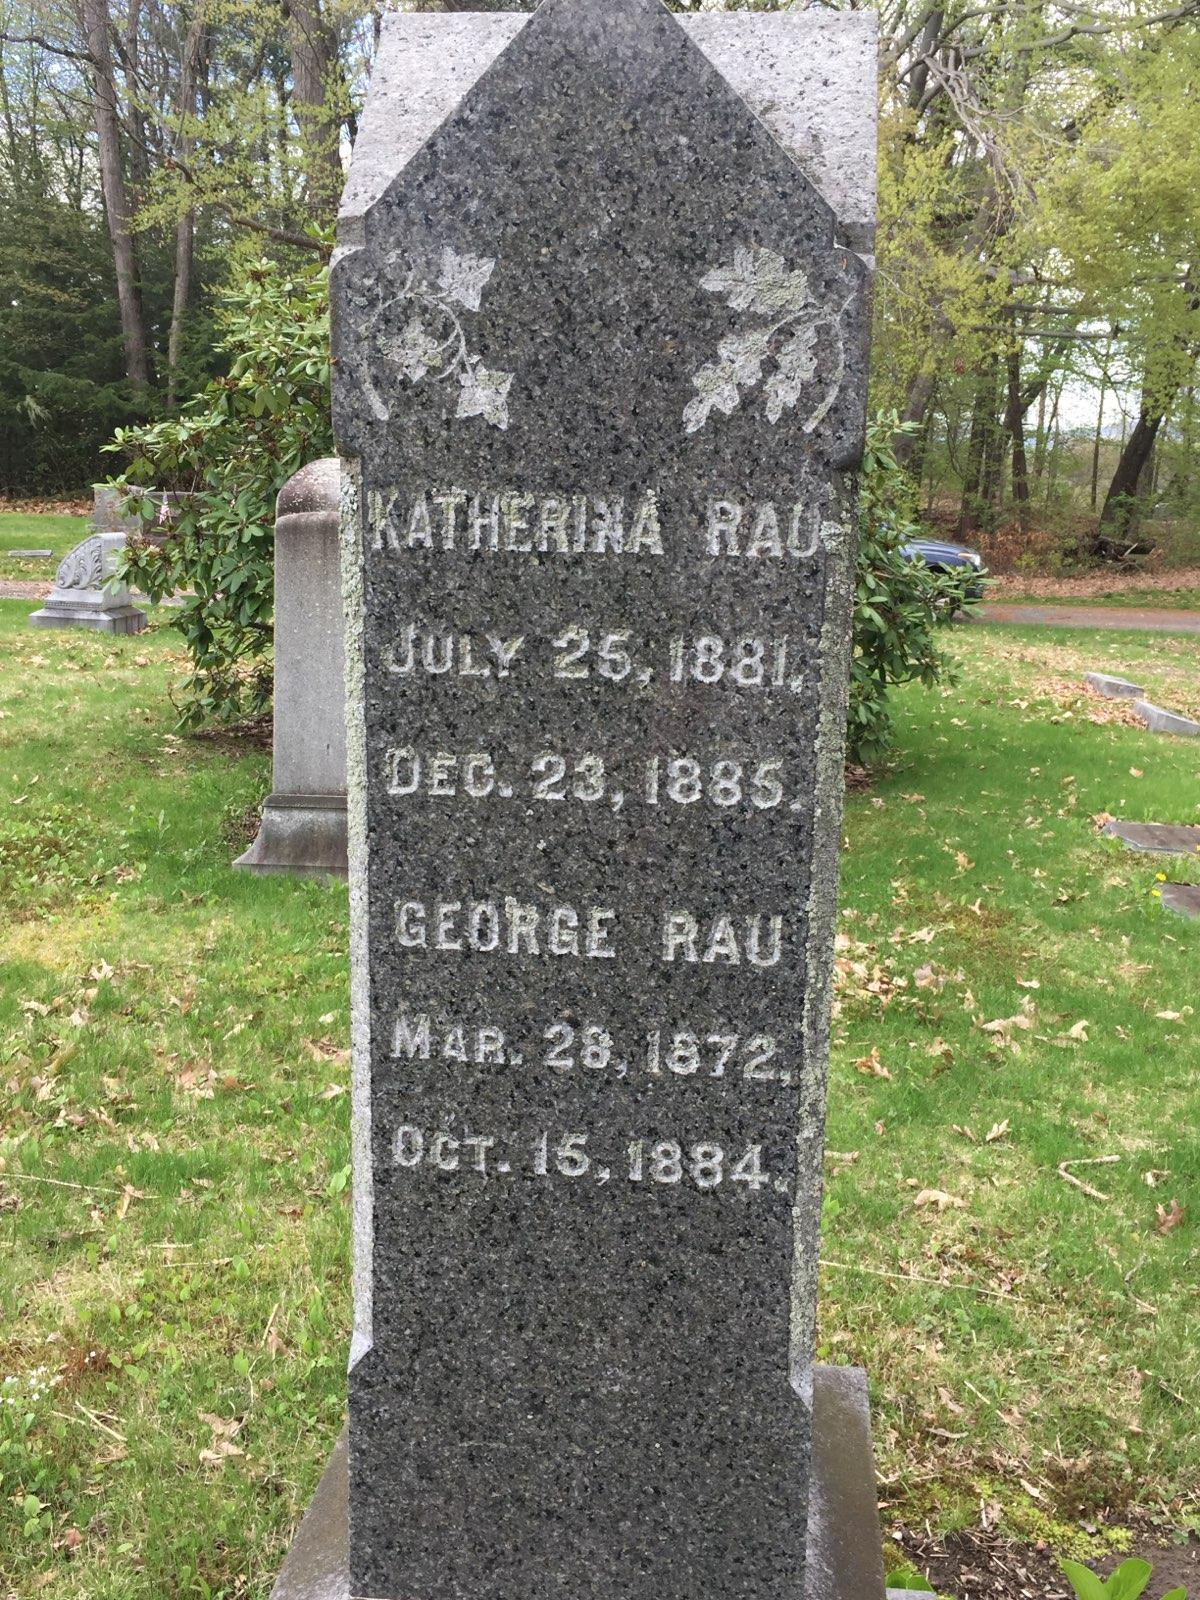obelisk: (316, 0, 866, 1600)
